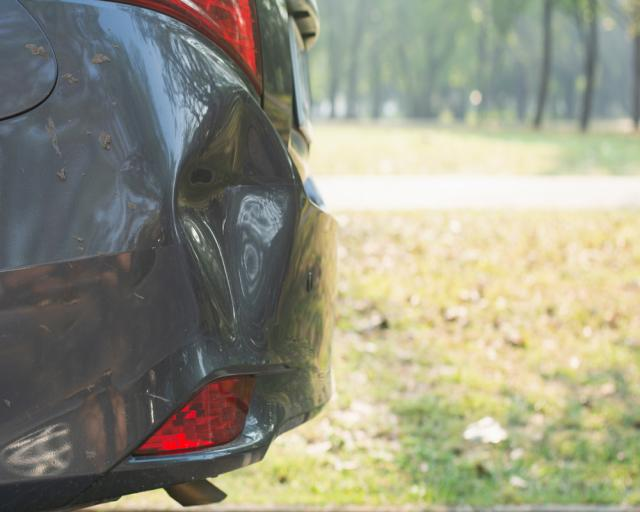dent: (172, 84, 296, 360)
